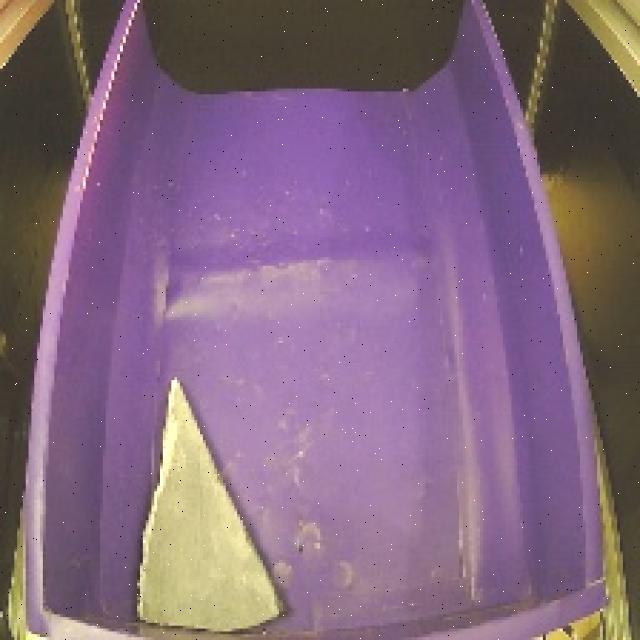china: (128, 365, 300, 635)
